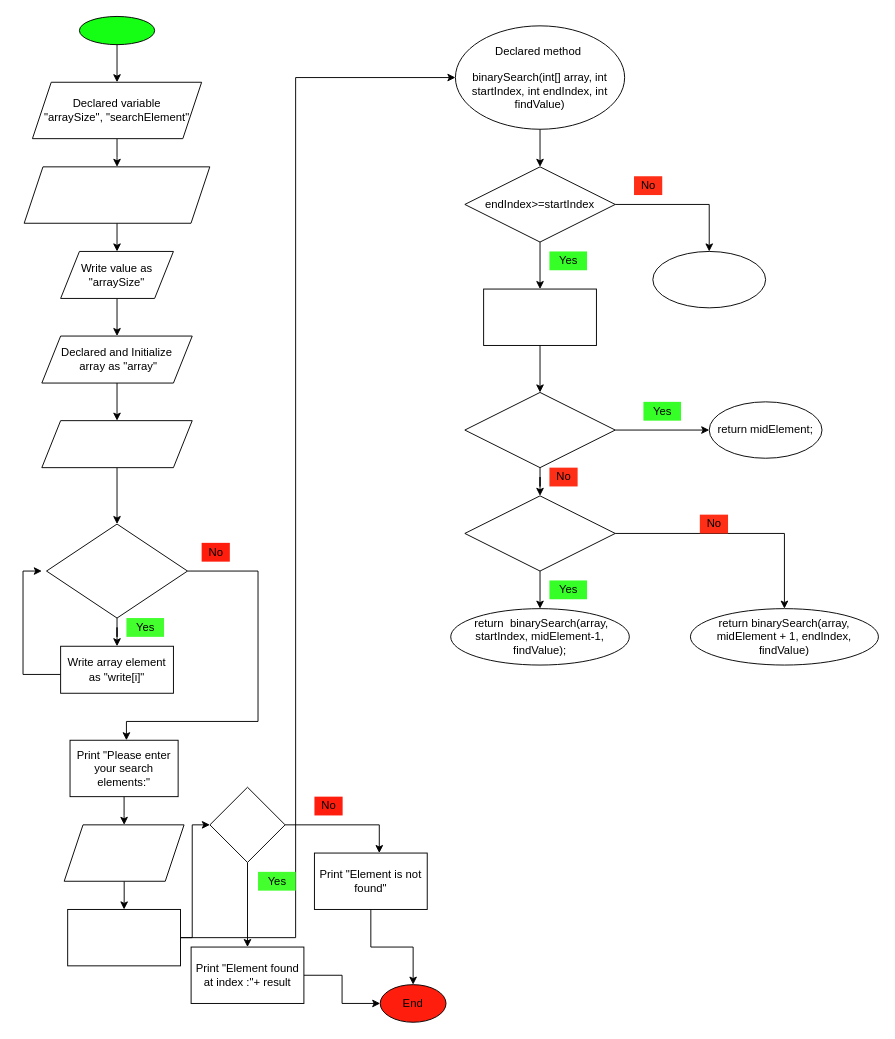
The diagram is 895 pixels wide and 1039 high, and some of its shapes have lost their labels. The box of each missing label's shape, as (x1, y1, x2, y2) in pixels:
array[midElement] ==findValue: (464, 392, 615, 468)
array[midElement] >findValue: (464, 495, 615, 571)
int i=0; i<arraySize; i++: (46, 523, 188, 618)
Print "Please enter your array elements:": (41, 420, 192, 468)
Print "Please enter your array size:": (23, 166, 210, 223)
result != -1: (209, 786, 285, 862)
return -1;: (652, 251, 766, 308)
set = midElement = startIndex+(endIndex-startIndex)/2: (483, 288, 596, 345)
set result = binarySearch(array, 0, arraySize - 1, searchElement): (67, 909, 180, 966)
Start: (78, 16, 155, 45)
Write element as "searchElement": (63, 824, 184, 881)
